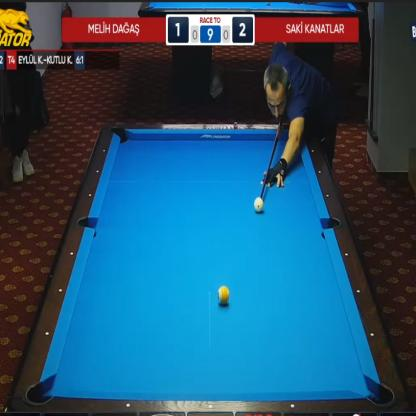Ball: (218, 285, 230, 305), (253, 197, 264, 212)
